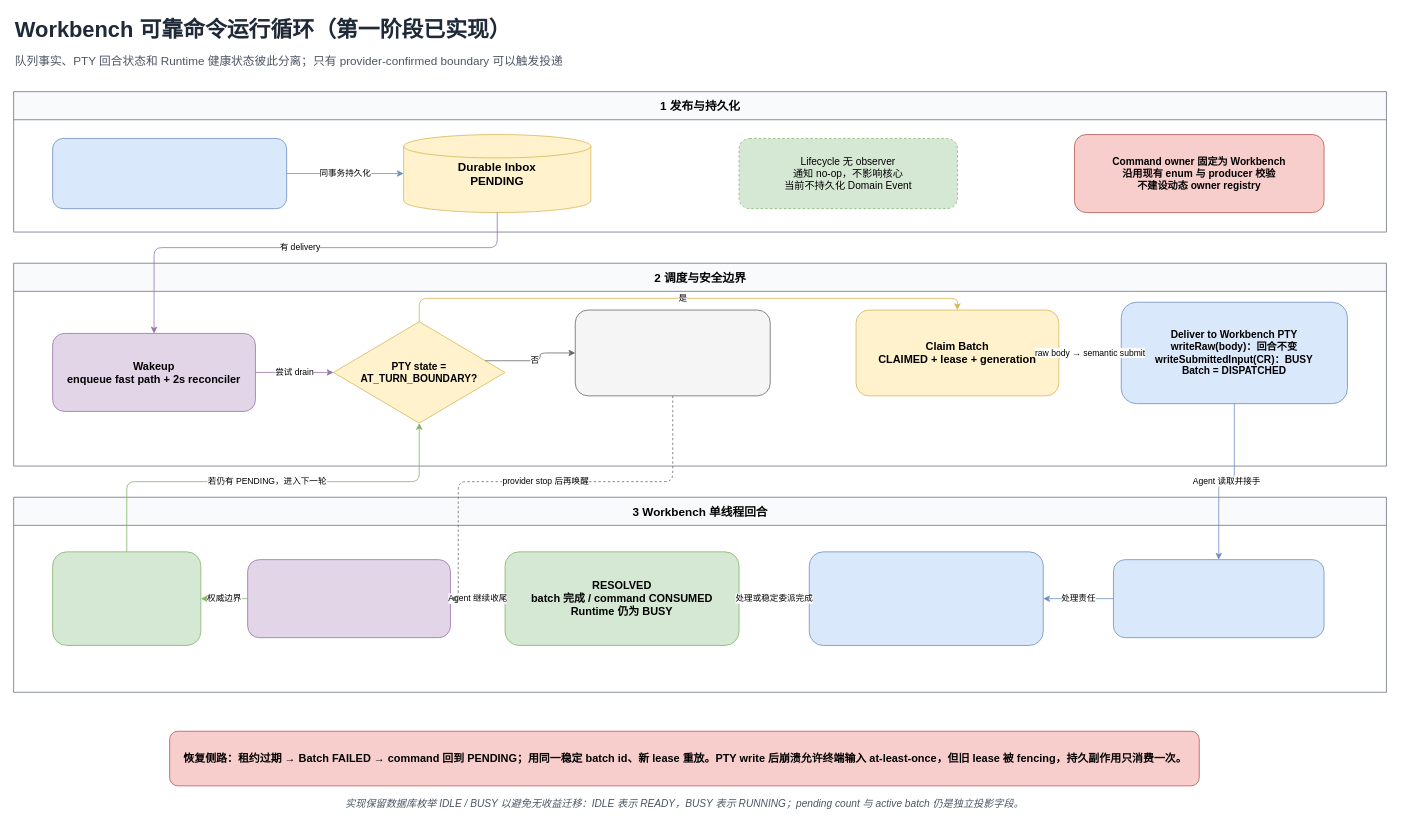
Image size: 1416x830. Some labels were removed from this diagram. Each missing label, with the centre of its shape:
"ACKED 确认接手，开始 processing lease" goes at pixel 1218 598.
"Handle / Delegate 领域操作 + heartbeat 可继续发布 Workbench command" goes at pixel 925 598.
"Provider stop / end_turn 唯一权威回合完成信号" goes at pixel 348 598.
"PTY = AT_TURN_BOUNDARY Runtime = IDLE （READY 语义） 开放一次性 drain token" goes at pixel 126 598.
"publishWorkbenchCommand 稳定 dedupKey / source / payload" goes at pixel 169 173.
"保持 PENDING Runtime = BUSY（RUNNING 语义） 不打断当前 Agent 回合" goes at pixel 672 352.
